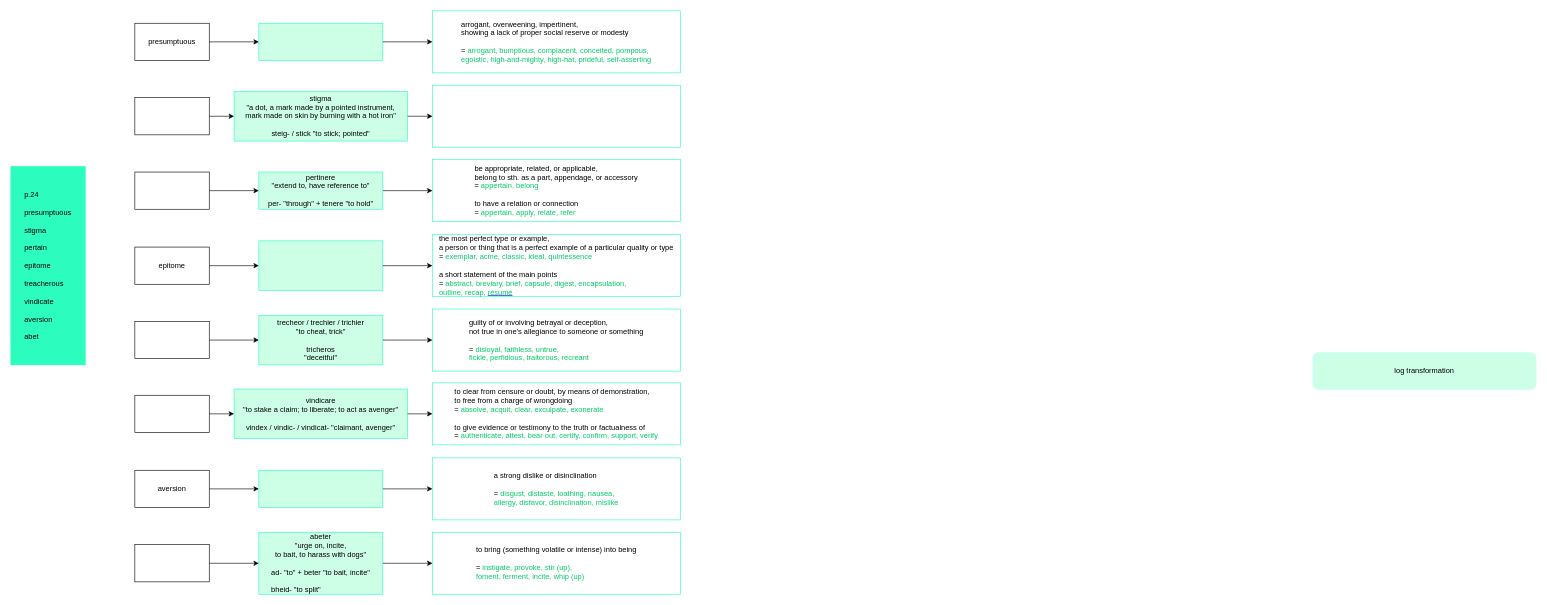
Some shapes in this 1547 by 605 pixel diagram are drawn without their labels. The centre of each missing label's shape, as x and y in pixels:
a mark of disgrace or guilt = smirch, smudge, spot, stain, taint: the point at 556,116
abet: the point at 171,563
avertere "turn away" ab- "away from" + vetere "to turn": the point at 320,488
epitemnein "abridge" epi "in addition" + temnein "to cut": the point at 320,265
pertain: the point at 171,190
praesumere / praesumptio "full of boldness": the point at 320,41
stigma: the point at 171,116
treacherous: the point at 171,340
vindicate: the point at 171,413
